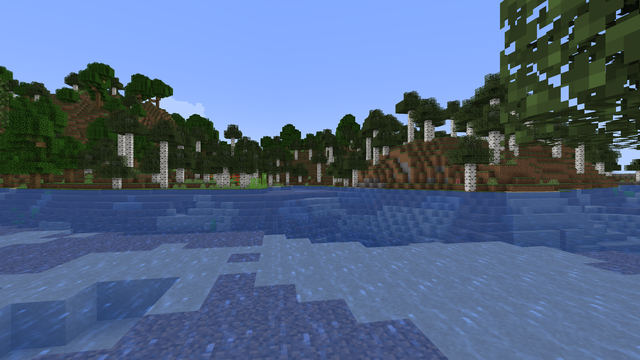cochons: (455, 178, 461, 183)
